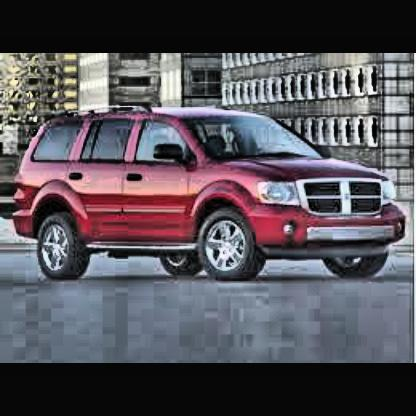Dodge Durango SUV 2007: (7, 93, 411, 317)
